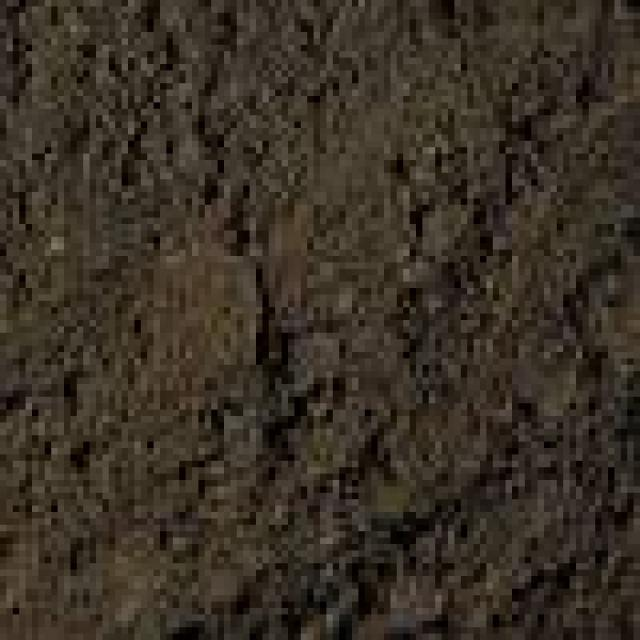Black Soil: (41, 57, 562, 560)
